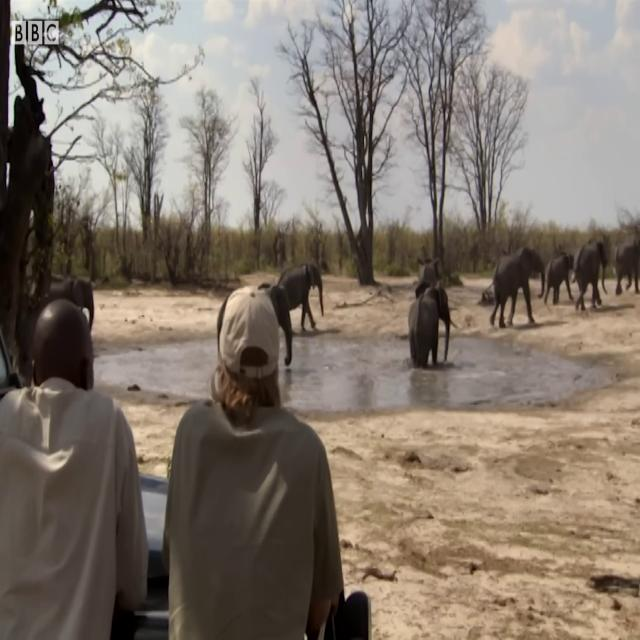Elephant: (489, 245, 545, 328), (408, 282, 457, 368), (276, 261, 324, 332), (258, 282, 292, 366), (571, 238, 608, 310), (543, 251, 574, 305), (614, 241, 640, 295)
person: (161, 284, 345, 639), (0, 297, 149, 638)
